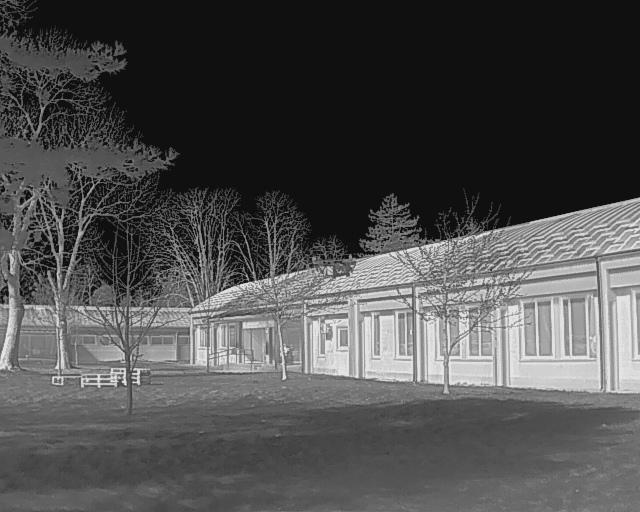drone: (305, 245, 367, 291)
